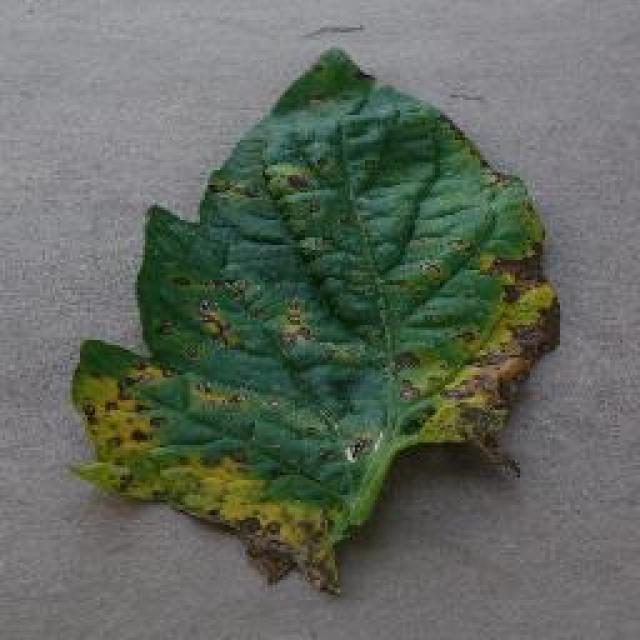Tomato Early blight leaf: (101, 69, 551, 576)
